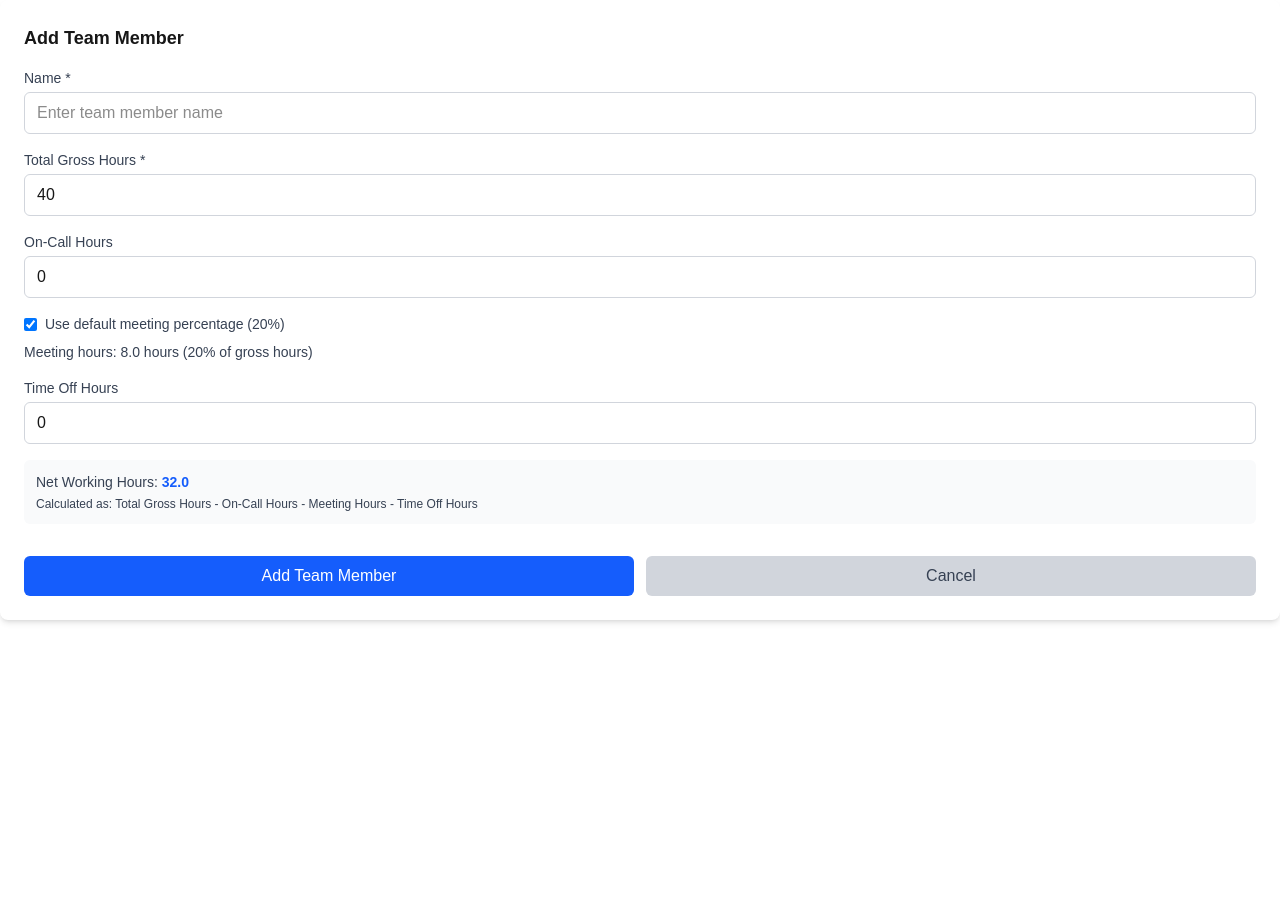
Test: TeamMemberForm › should validate positive gross hours
The image size is (1280, 900).
Type "Test User" into the field labelled "Name *" at (640, 113), box [24,92,1256,134]
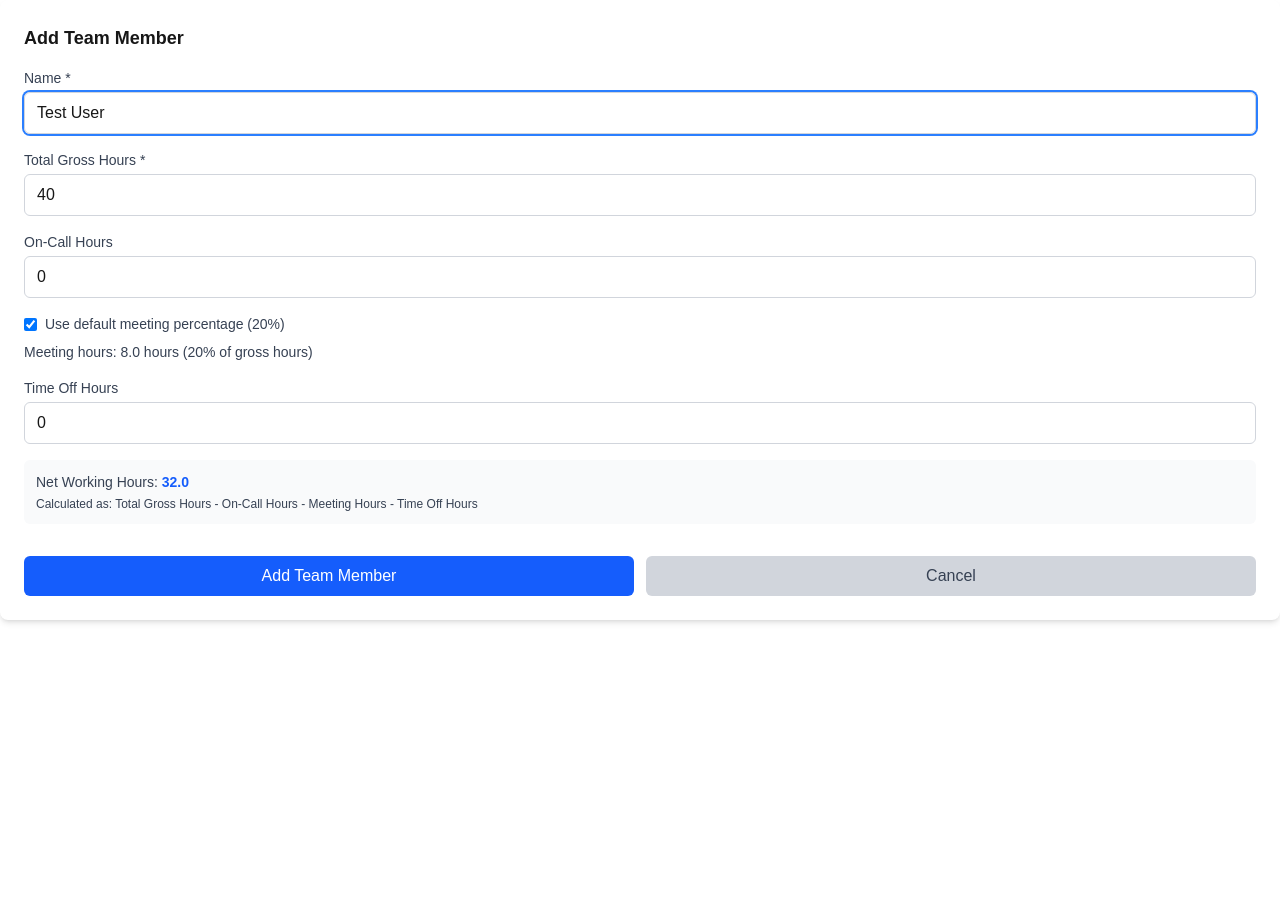
Replace the text in the number field labelled "Total Gross Hours *" with "0" at (640, 195), box [24,174,1256,216]
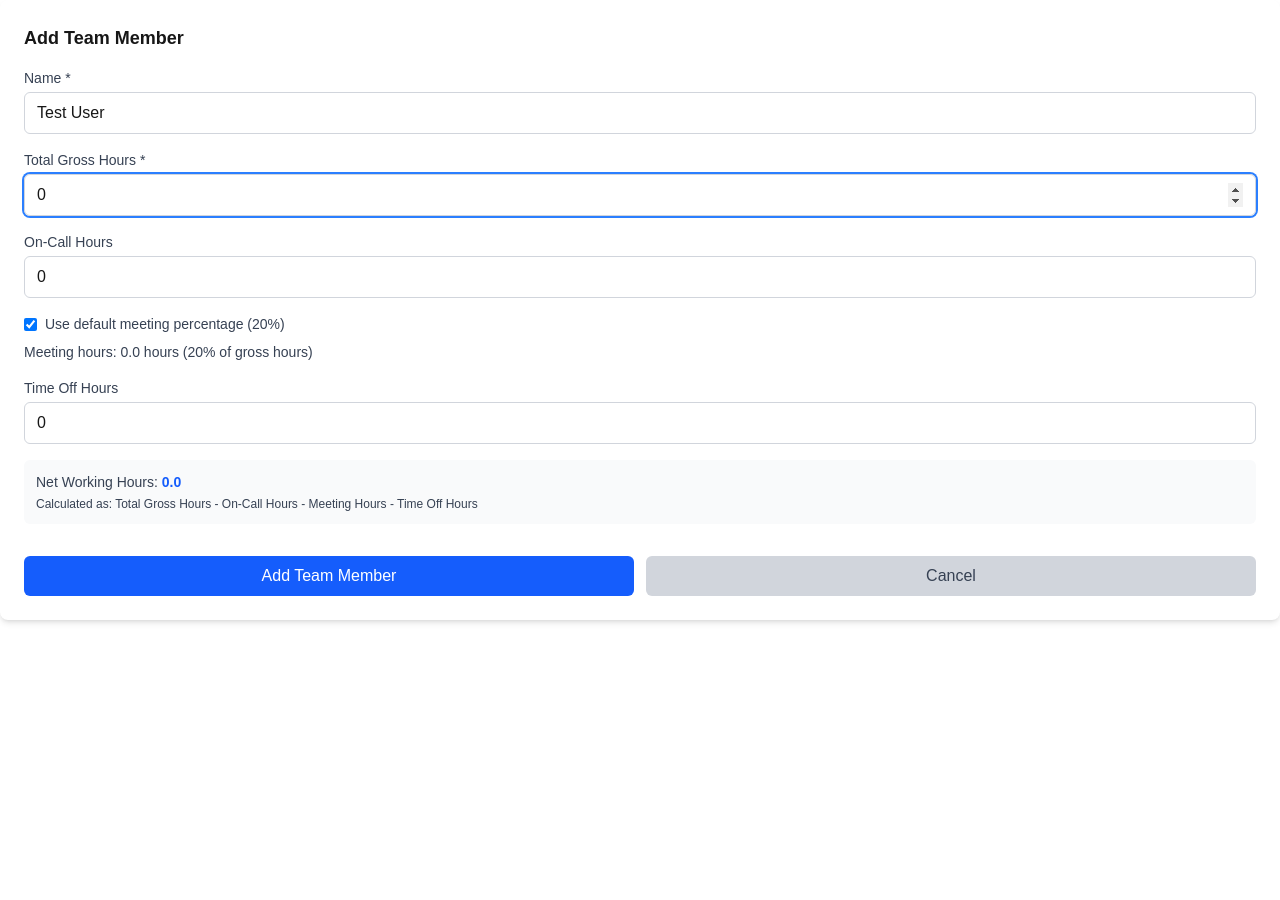
Click the button "Add Team Member" at (329, 576), box [24,556,634,596]
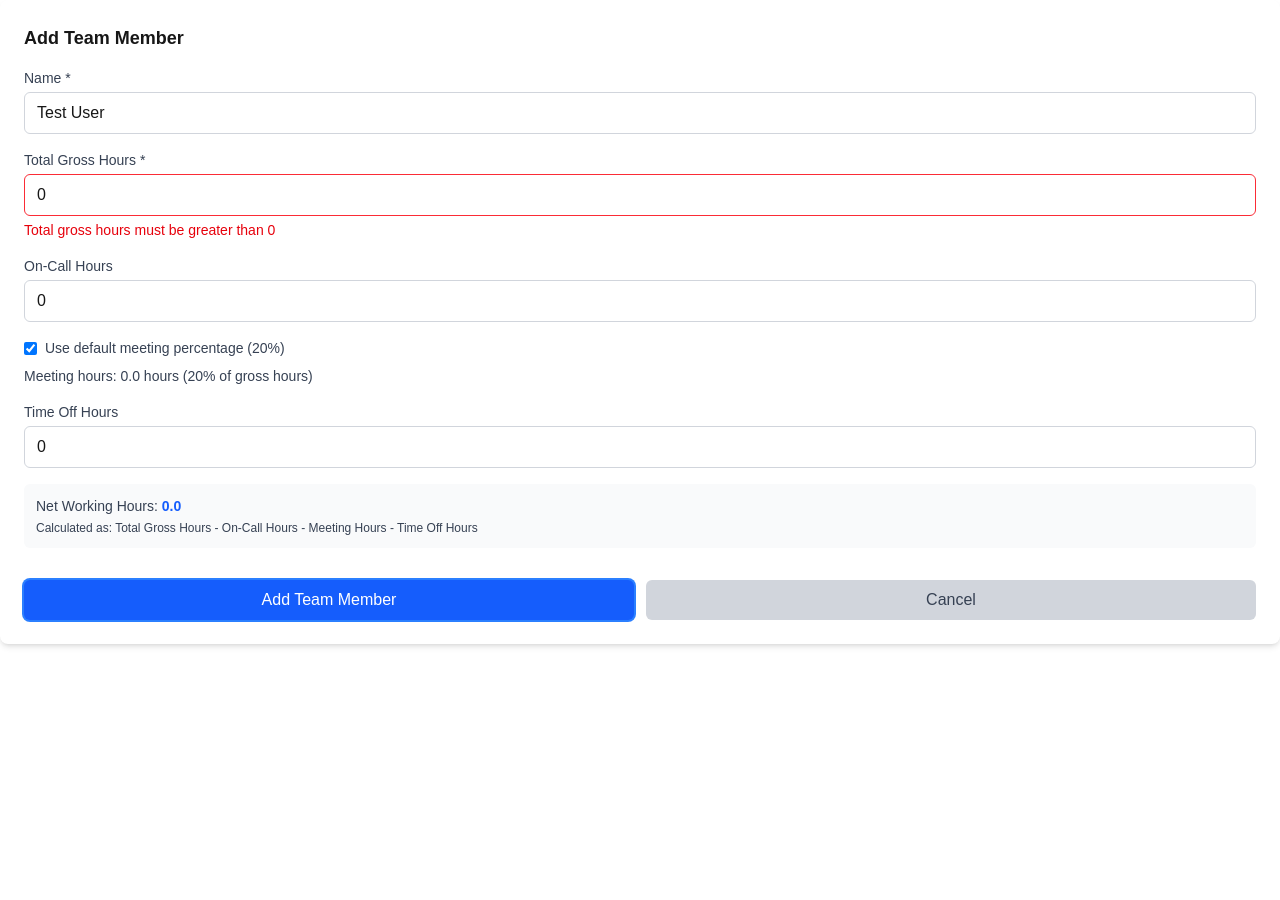
Expected: the text "Total gross hours must be greater than 0" is shown, [24,222,275,238]
